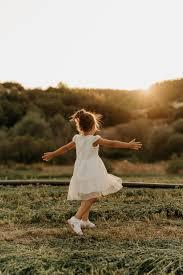child: (32, 106, 147, 234)
